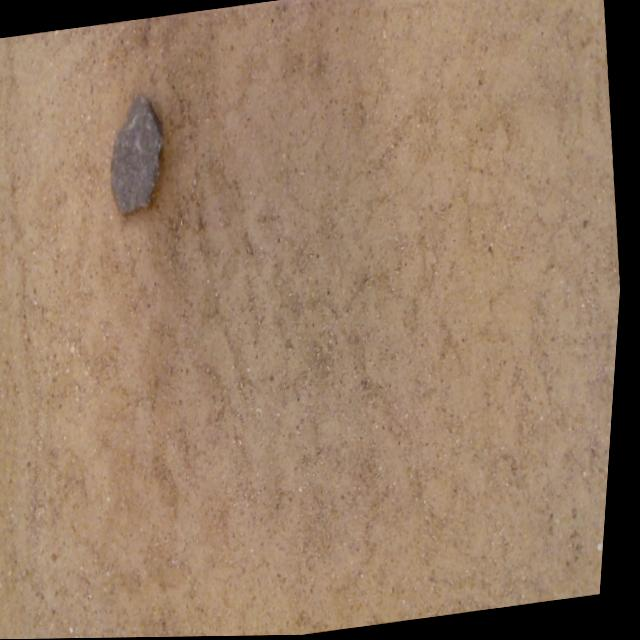rock: (112, 95, 163, 214)
